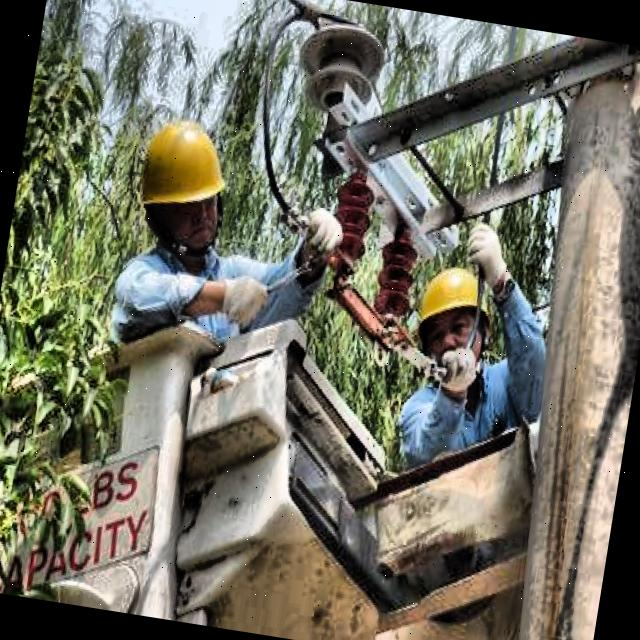helmet: (119, 101, 245, 268), (402, 253, 500, 384)
